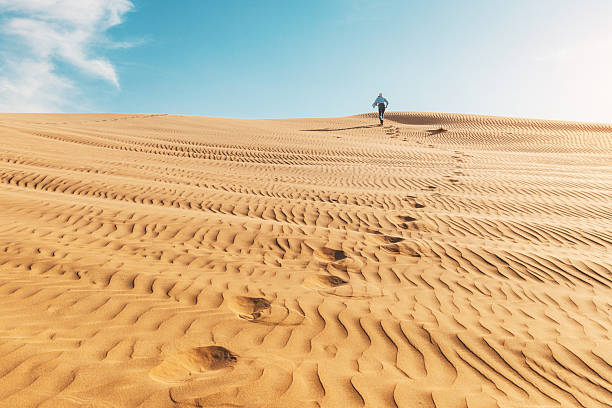human_foot_print: (158, 334, 238, 382), (315, 242, 352, 298), (238, 288, 274, 326), (374, 237, 406, 265), (408, 188, 432, 216), (393, 207, 415, 236), (436, 170, 463, 188)
